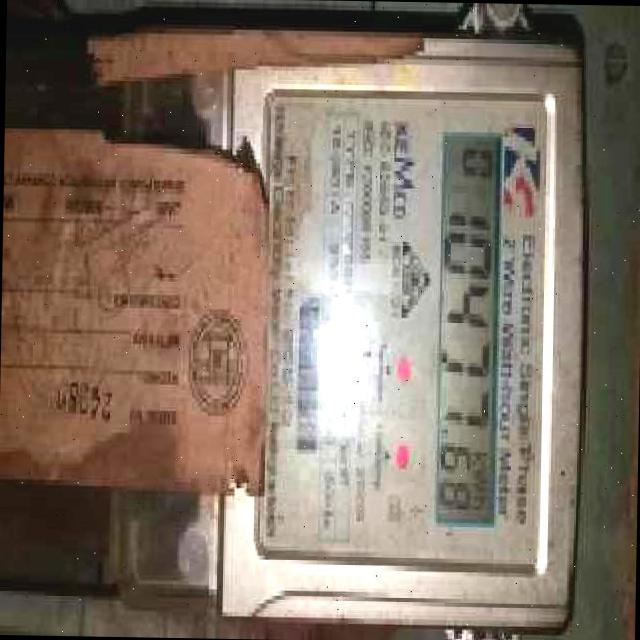LCD: (424, 121, 516, 538)
